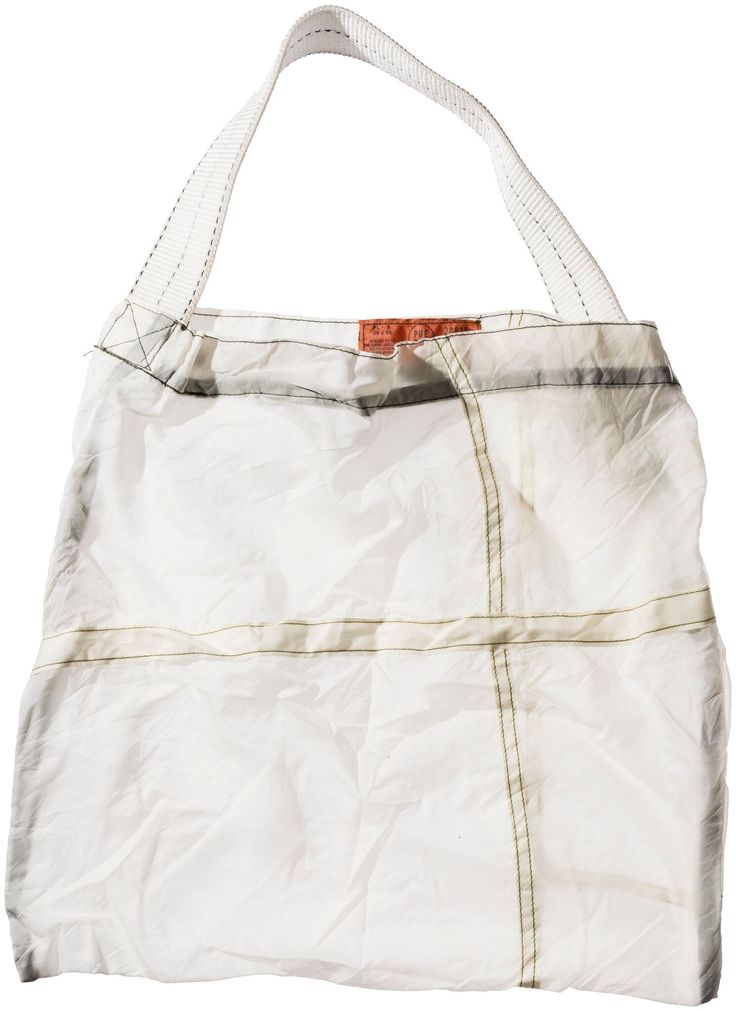nylon: (6, 2, 730, 999)
